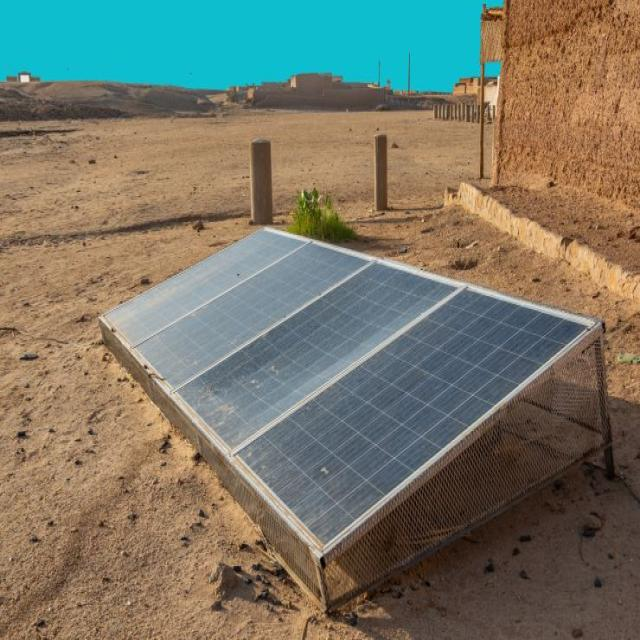dust-solar-panel: (101, 228, 594, 550)
